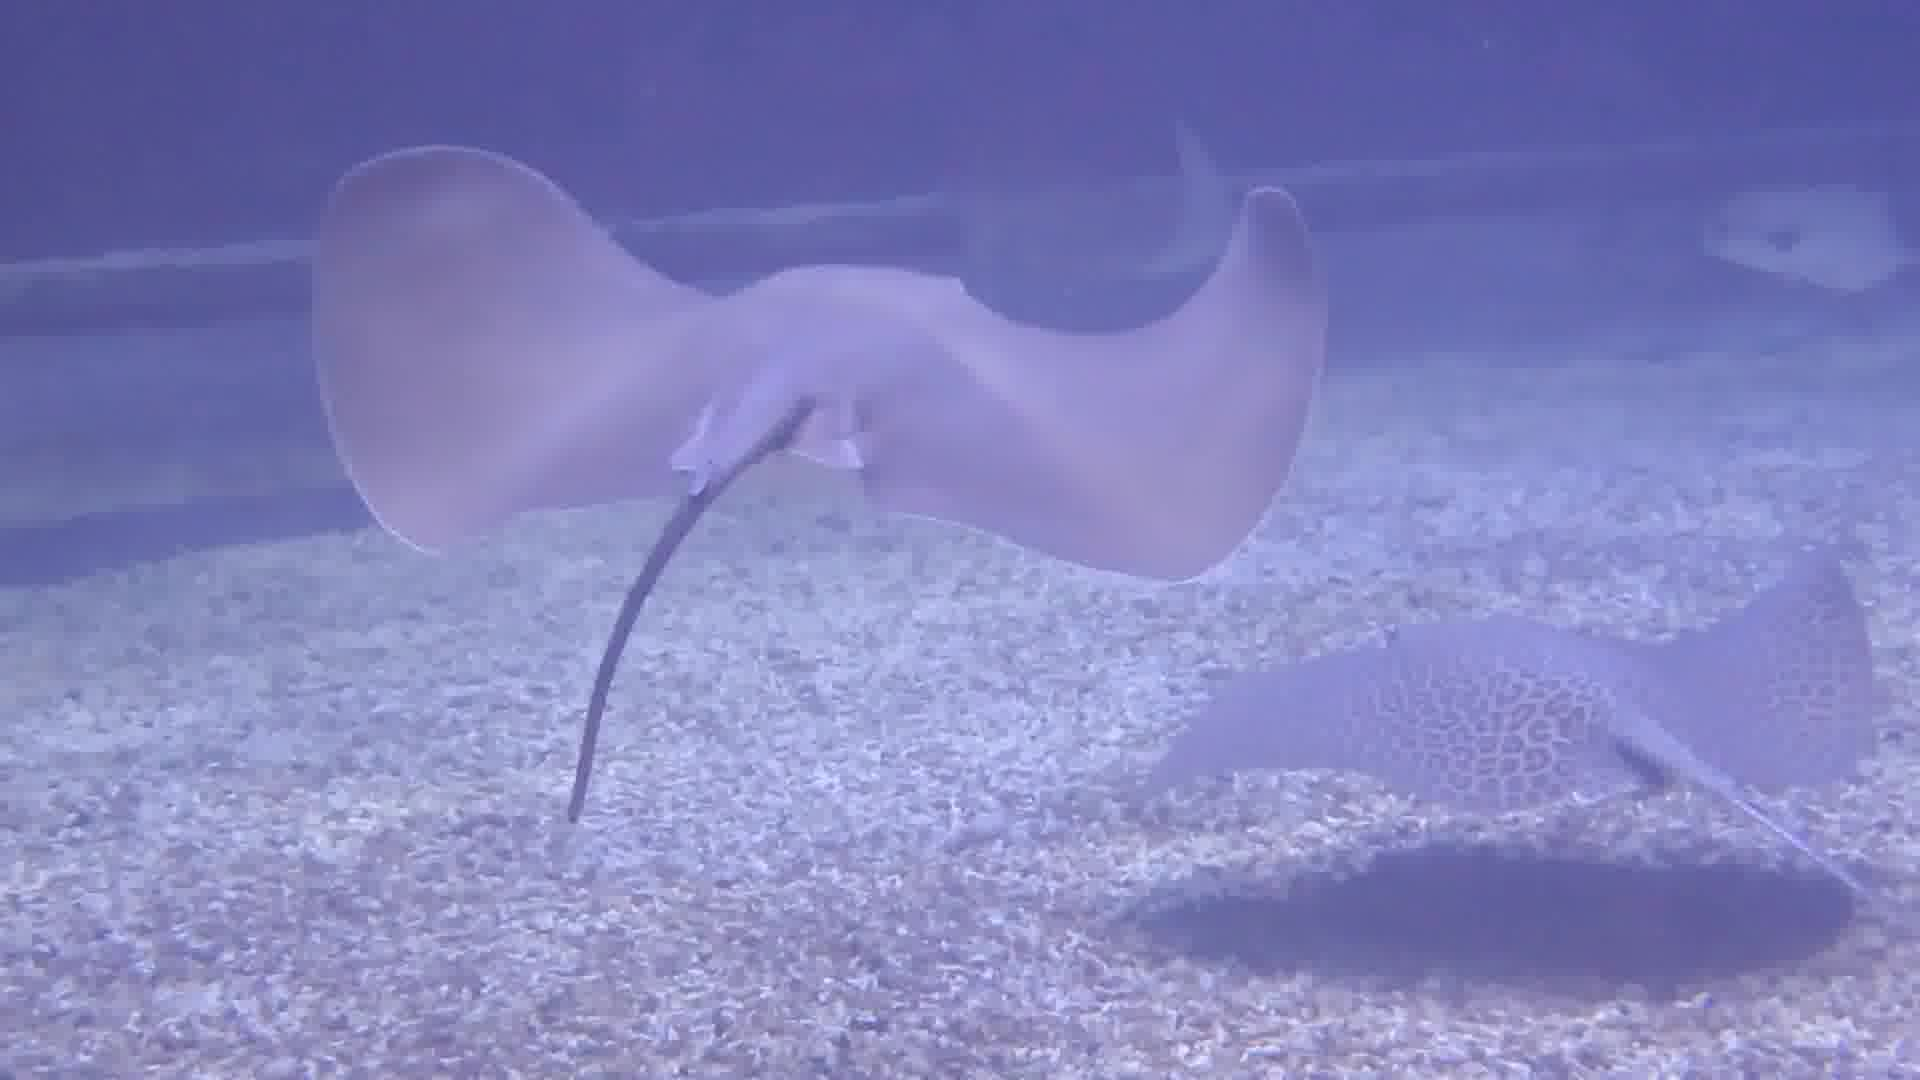Dasyatis akajei: (272, 73, 1375, 868)
